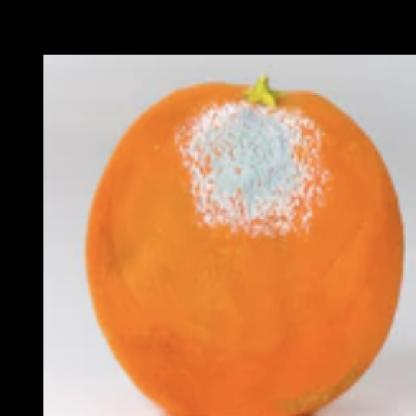rotten: (90, 80, 403, 416)
